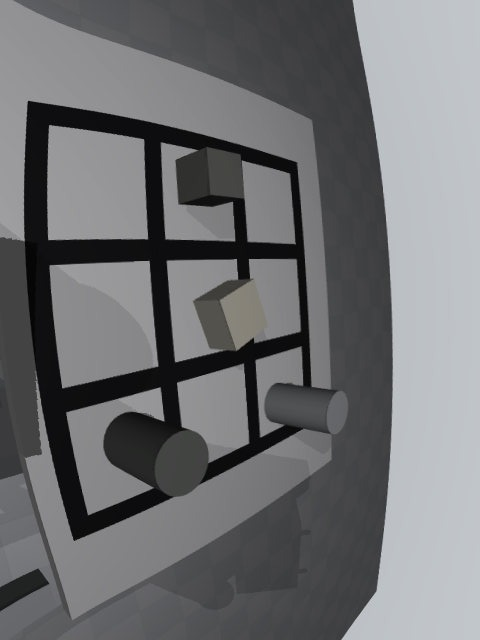can: (265, 383, 348, 434)
cube: (175, 147, 245, 207)
cylinder: (103, 412, 209, 497)
foam: (193, 279, 268, 351)
